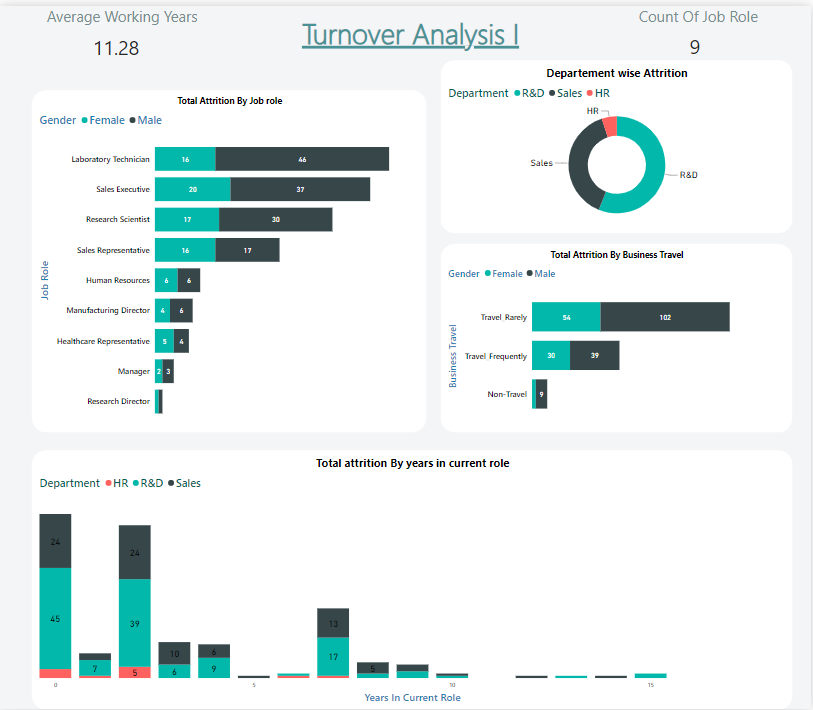

Layout of this report page (visuals, bound fields, positions):
{"tool":"powerbi","page":{"name":"Page 2","canvas":[1383,1198],"ordinal":2},"visuals":[{"type":"donutChart","title":"Departement wise Attrition","fields":{"Category":["HR data.Department"],"Y":["Sum(HR data.Attrition Count)"]},"box":[751,91.8,600,295.9],"z":0},{"type":"card","title":"Average Working Years","fields":{"Values":["Avg(HR data.Total Working Years)"]},"box":[55.1,0,287.8,108.2],"z":1000},{"type":"barChart","title":"Total Attrition By Job role","fields":{"Category":["HR data.Job Role"],"Y":["Sum(HR data.Attrition Count)"],"Series":["HR data.Gender"]},"box":[54.9,143.1,672.5,584.3],"z":2000},{"type":"barChart","title":"Total Attrition By Business Travel","fields":{"Y":["Sum(HR data.Attrition Count)"],"Series":["HR data.Gender"],"Category":["HR data.Business Travel"]},"box":[751,404.1,600,322.4],"z":3000},{"type":"columnChart","title":"Total attrition By years in current role","fields":{"Category":["HR data.Years In Current Role"],"Y":["Sum(HR data.Attrition Count)"],"Series":["HR data.Department"]},"box":[55.1,755.1,1295.9,442.9],"z":4000},{"type":"card","title":"Count Of Job Role","fields":{"Values":["Count(HR data.Job Role)"]},"box":[1071.4,0,224.5,106.1],"z":6000},{"type":"textbox","box":[510.2,8.2,479.6,83.7],"z":7000}]}

Visuals, with their boxes in screenshot pixels (x1, y1, x2, y2), scaled from the page's 1383x1198 canvas onto the 813x710 screenshot:
"Departement wise Attrition" donutChart: bbox(441, 54, 794, 230)
"Average Working Years" card: bbox(32, 0, 202, 64)
"Total Attrition By Job role" barChart: bbox(32, 85, 428, 431)
"Total Attrition By Business Travel" barChart: bbox(441, 239, 794, 431)
"Total attrition By years in current role" columnChart: bbox(32, 448, 794, 709)
"Count Of Job Role" card: bbox(630, 0, 762, 63)
textbox: bbox(300, 5, 582, 54)
